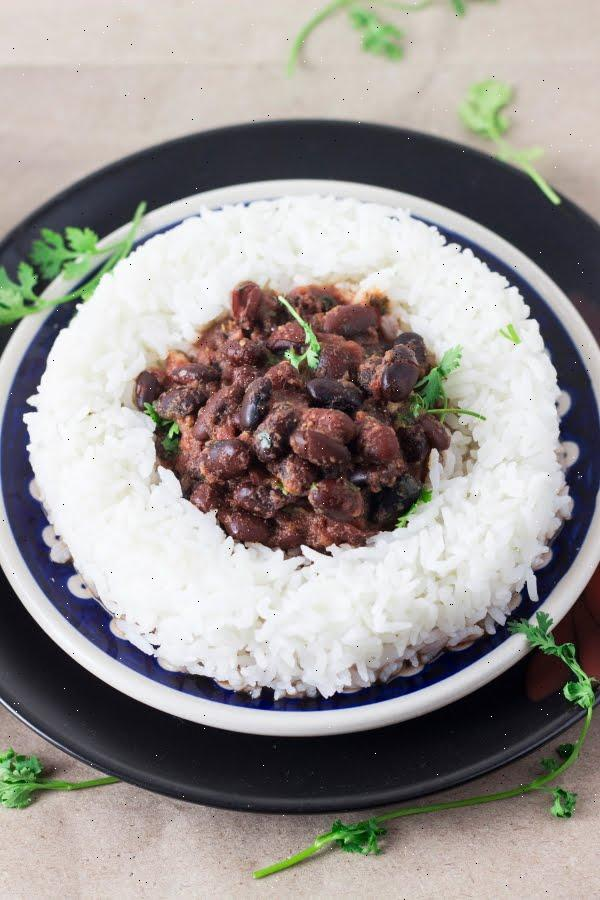rajma: (168, 308, 435, 530)
rice: (62, 535, 545, 715)
